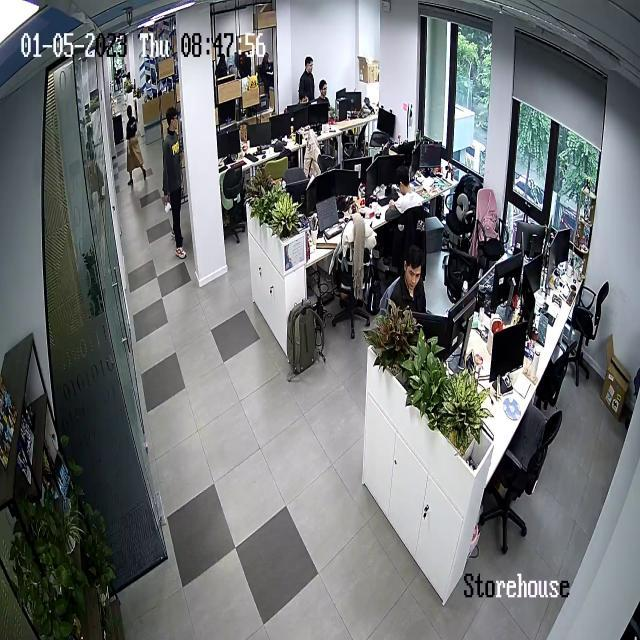person: (162, 107, 186, 260), (381, 244, 428, 314), (125, 100, 149, 187), (388, 164, 426, 216), (258, 52, 274, 106), (298, 56, 316, 104), (317, 79, 330, 105)
